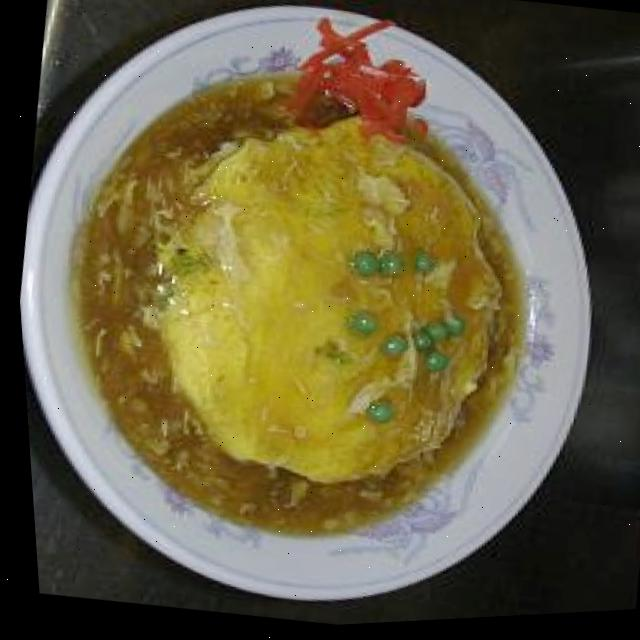面条主食: (32, 0, 621, 612)
